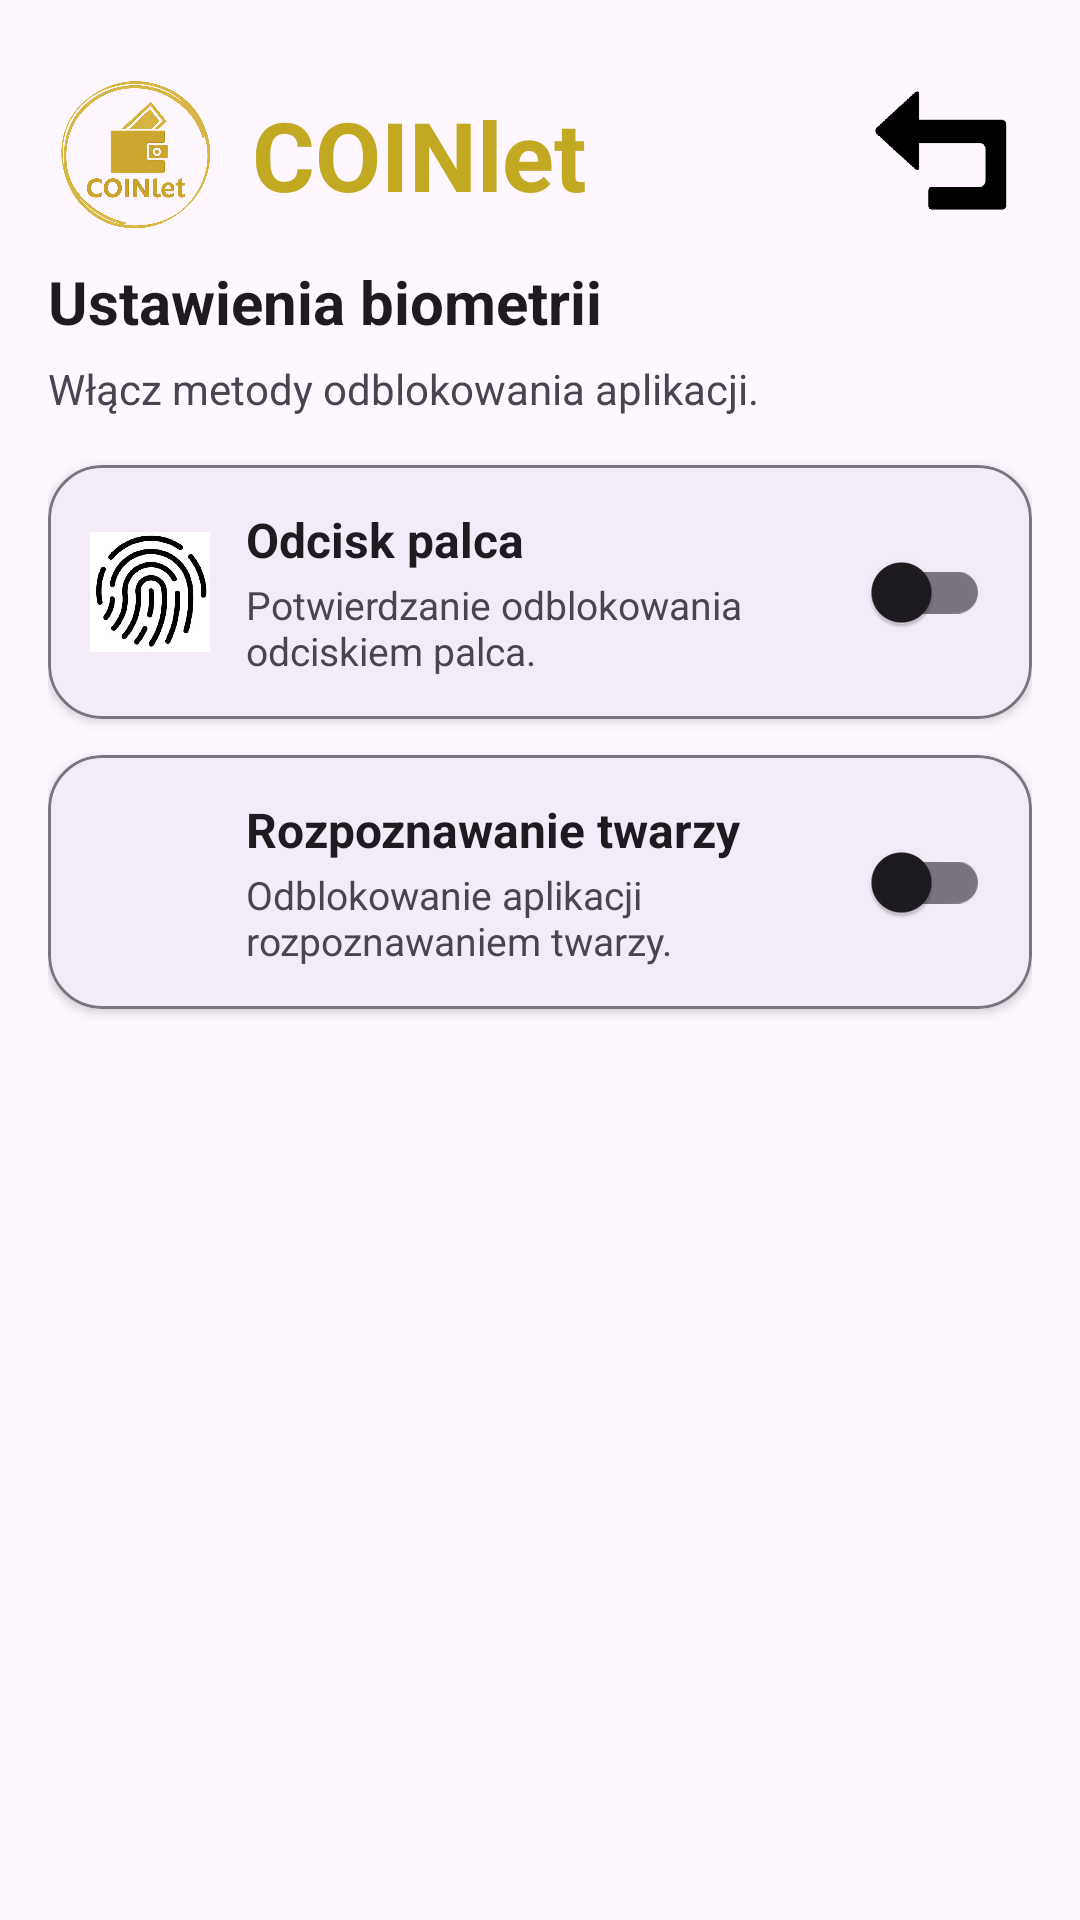

Icon bounding boxes for this 1080w x 1920h phone screenshot, format bbox(x1, y1, x2, y2):
back: bbox(875, 91, 1007, 210)
finger: bbox(90, 532, 210, 652)
